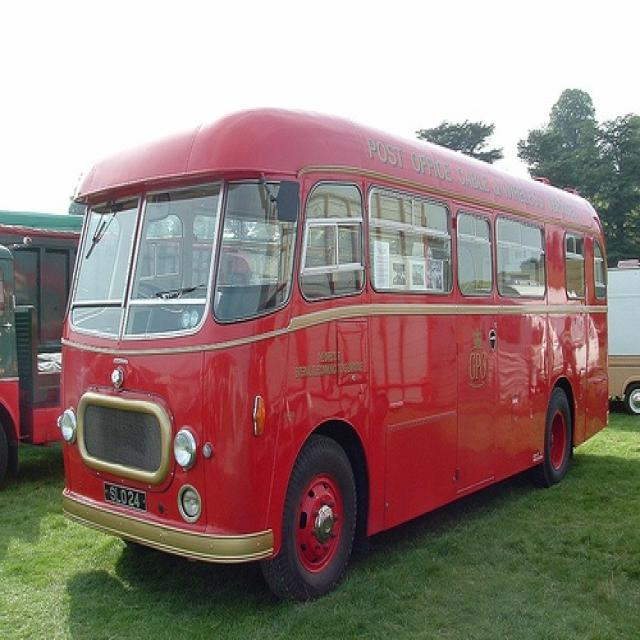bus: (56, 105, 609, 605)
